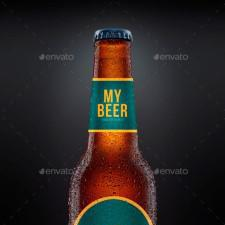beer: (65, 27, 159, 225)
